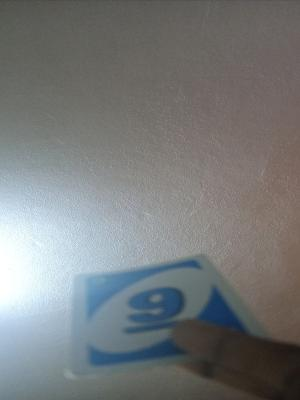blue: (90, 278, 211, 341)
